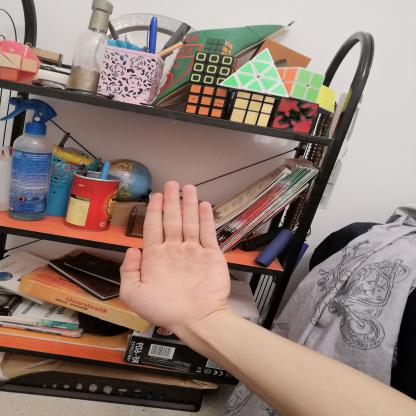SEEN: (109, 174, 239, 338)
